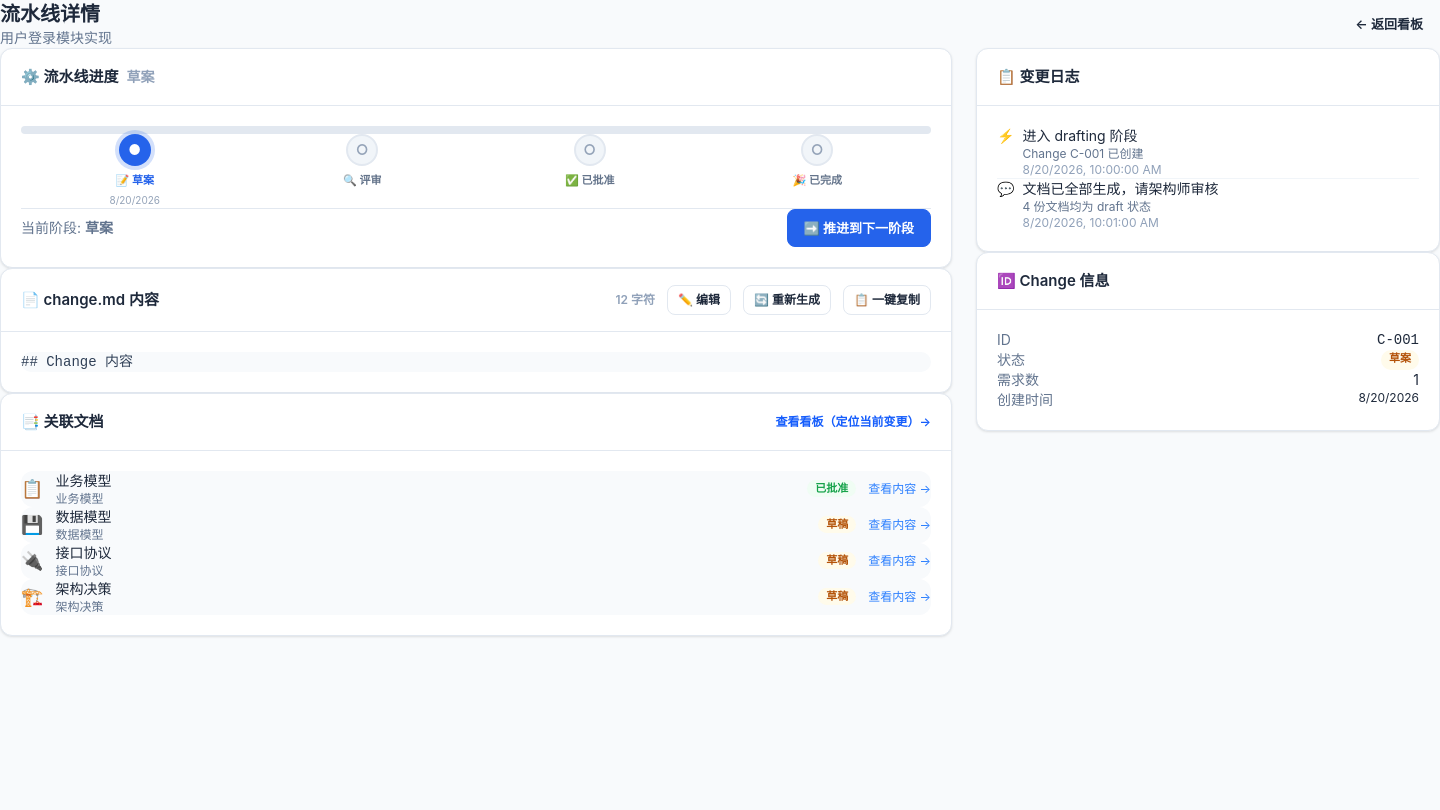
it: PipelineView — 📑 关联文档 › 点击技术文档行应弹窗展示对应文档内容
Click the element showing "📋 业务模型 业务模型 已批准 查看内容 →" at coordinates (476, 489), box [21,471,931,507]
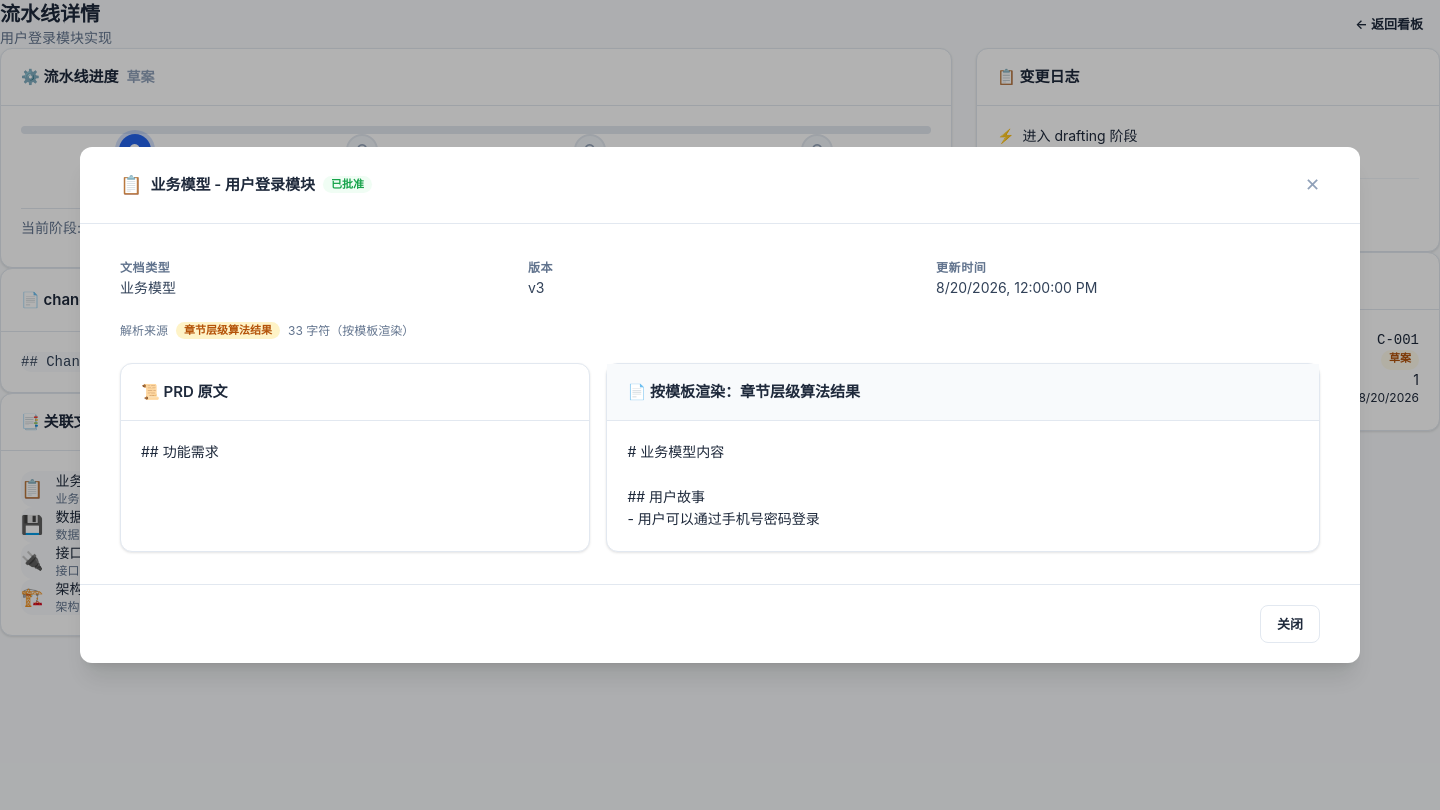
Now the text "业务模型 - 用户登录模块" is shown, box [150,173,315,197]
Now the text "v3" is shown, box [528,279,544,296]
Now the text "# 业务模型内容" is shown, box [627,443,820,527]
